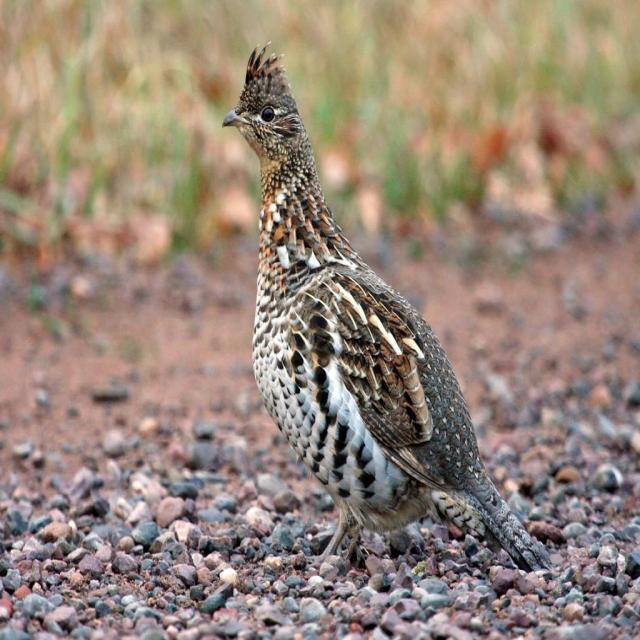bird: (220, 38, 555, 581)
